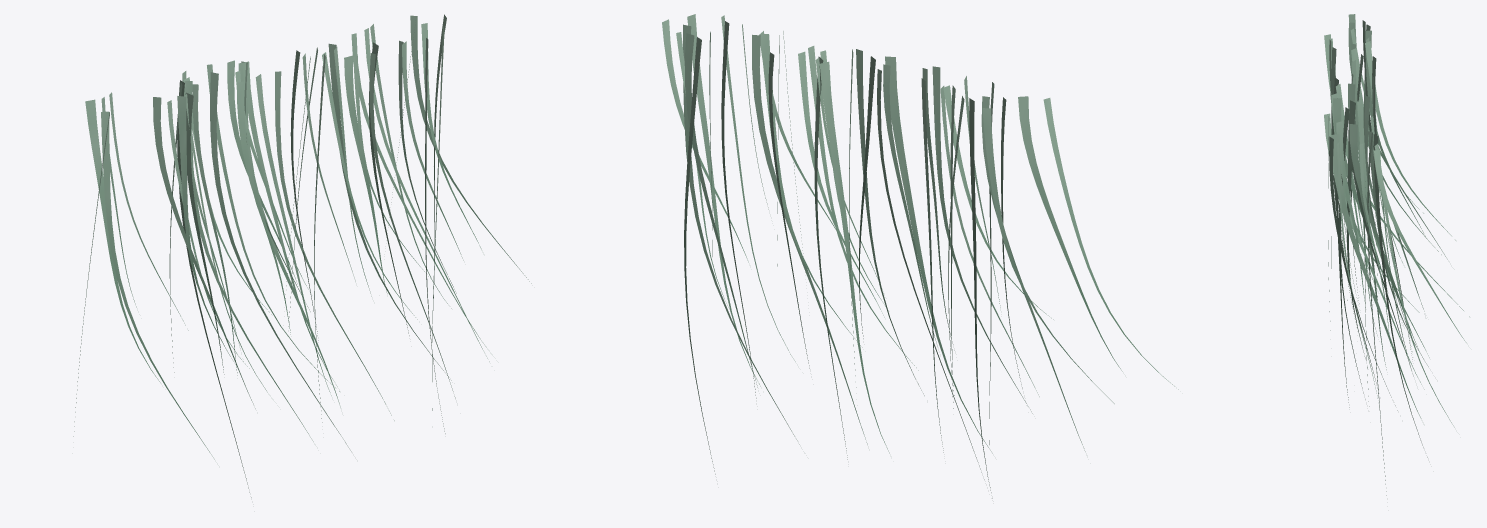
Rendered from mesh-plant-038-mist-veil_LOD0.glb.
3 views of the same model, side by side, from view 1: azimuth 30°, elevation 25°; view 2: azimuth 150°, elevation 25°; view 3: azimuth 270°, elevation 25° (orthographic). The views are drawn at different scales.
Visible parts, largest first — view 1: geometry_0; view 2: geometry_0; view 3: geometry_0.
Part boxes in pixels (x1,y1,x2,y2): geometry_0: [73, 14, 531, 497]; geometry_0: [662, 14, 1178, 498]; geometry_0: [1324, 14, 1469, 495].
Bounding box in the file's own units: 3.16 × 2.34 × 1.67.
